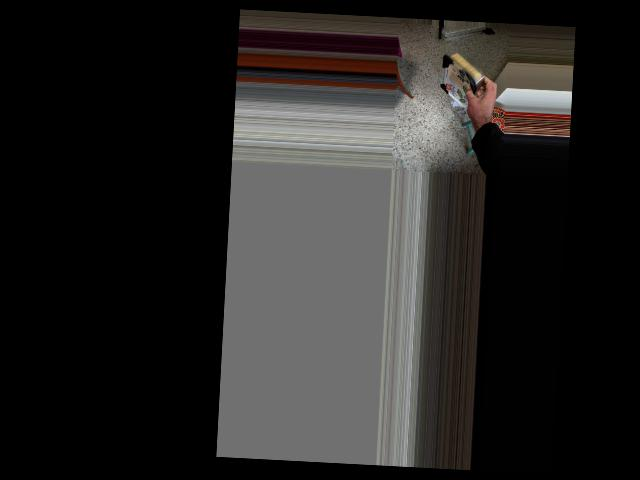cheese: (422, 38, 503, 106)
